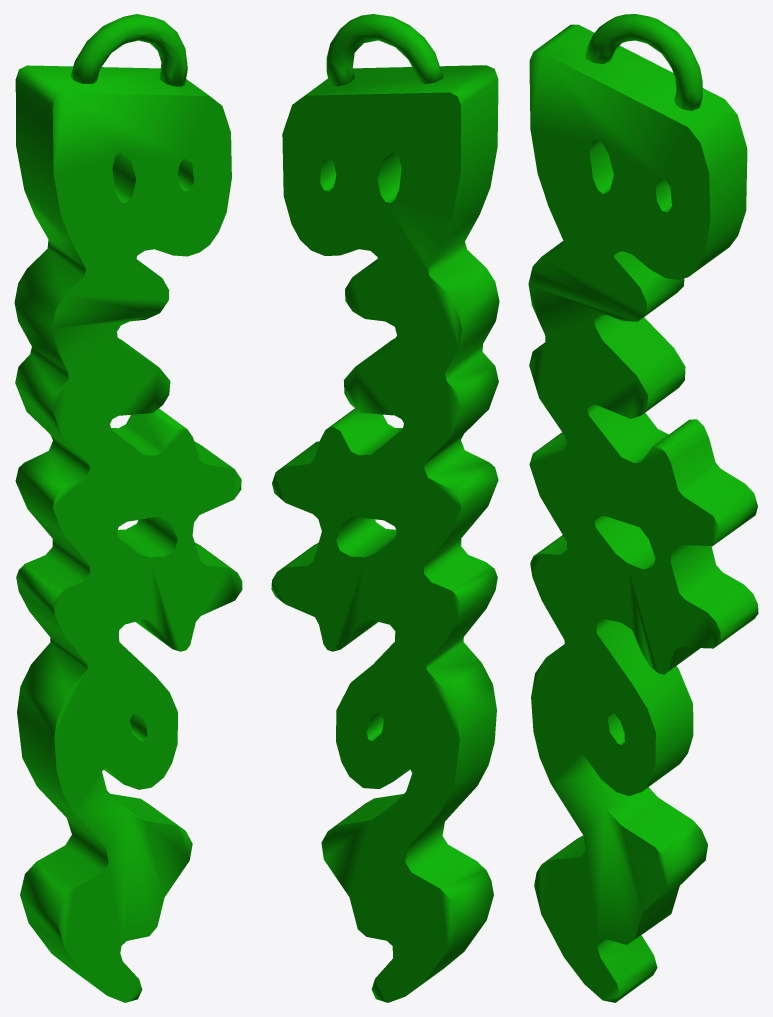
File: butter_tag.glb
3 renders of one model, left to right at view 1: azimuth 30°, elevation 25°; view 2: azimuth 150°, elevation 25°; view 3: azimuth 330°, elevation 25°, orthographic.
Visible parts, largest first — view 1: butter_low; view 2: butter_low; view 3: butter_low.
Part boxes in pixels (<box>): butter_low: <box>14,14,242,1002</box>; butter_low: <box>271,14,499,1002</box>; butter_low: <box>528,14,758,1002</box>.
Size of the model in its own units: 0.3105 by 1.5 by 0.1048.
